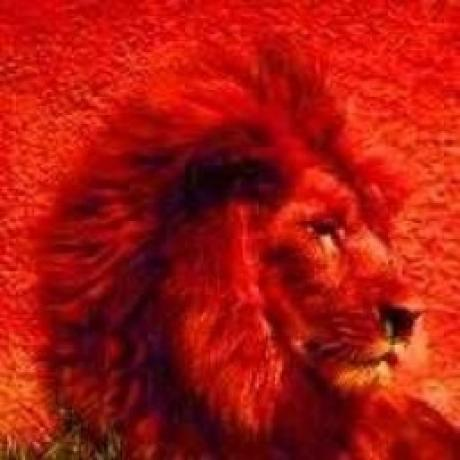Lion: (25, 41, 458, 460)
